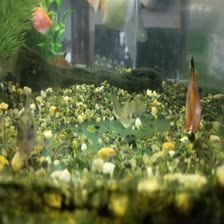Guppy: (117, 86, 157, 126)
Kiros: (2, 96, 67, 165)
Transparente: (177, 51, 205, 135)
